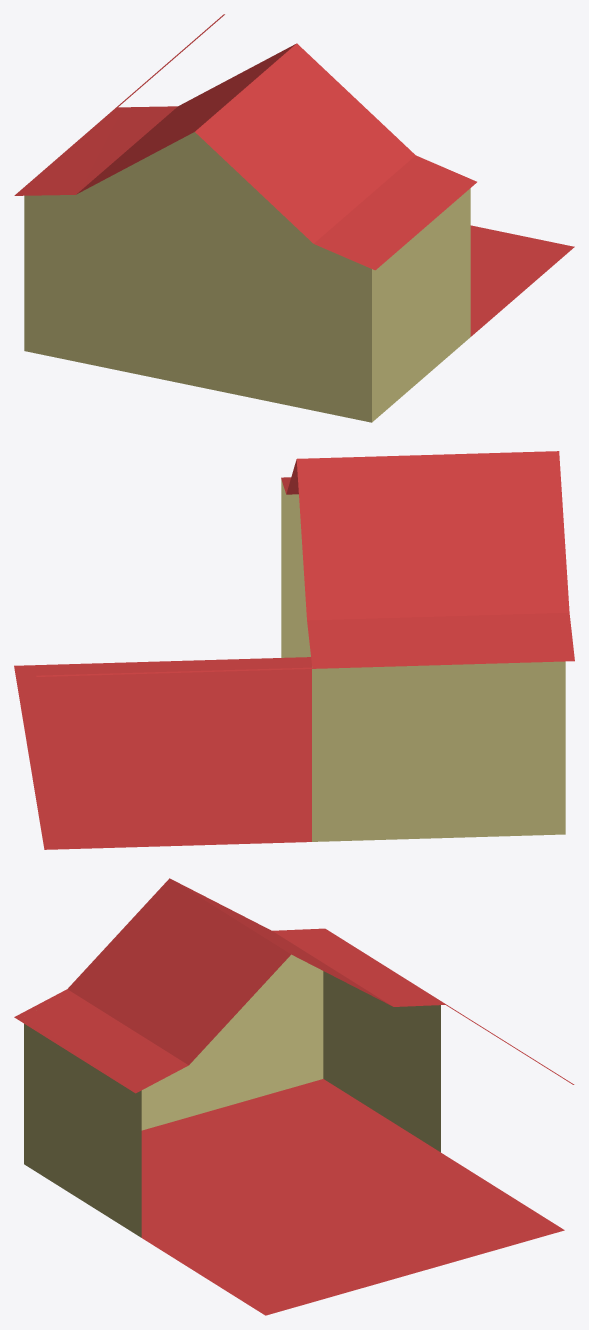
3 views of the same model, one above another, from view 1: azimuth 30°, elevation 25°; view 2: azimuth 150°, elevation 25°; view 3: azimuth 270°, elevation 25° (orthographic). The views are drawn at different scales.
Bounding box in the file's own units: 19.94 × 19.61 × 9.29.
